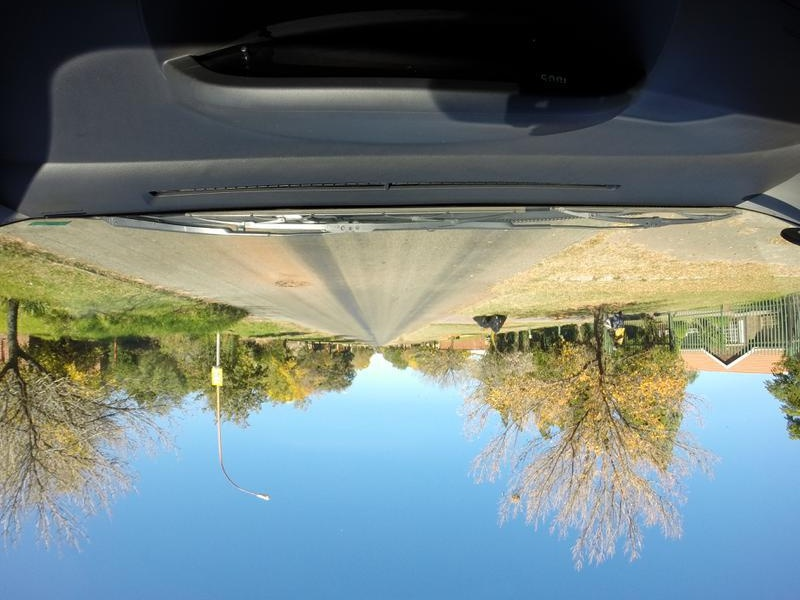pothole: (272, 279, 307, 286)
